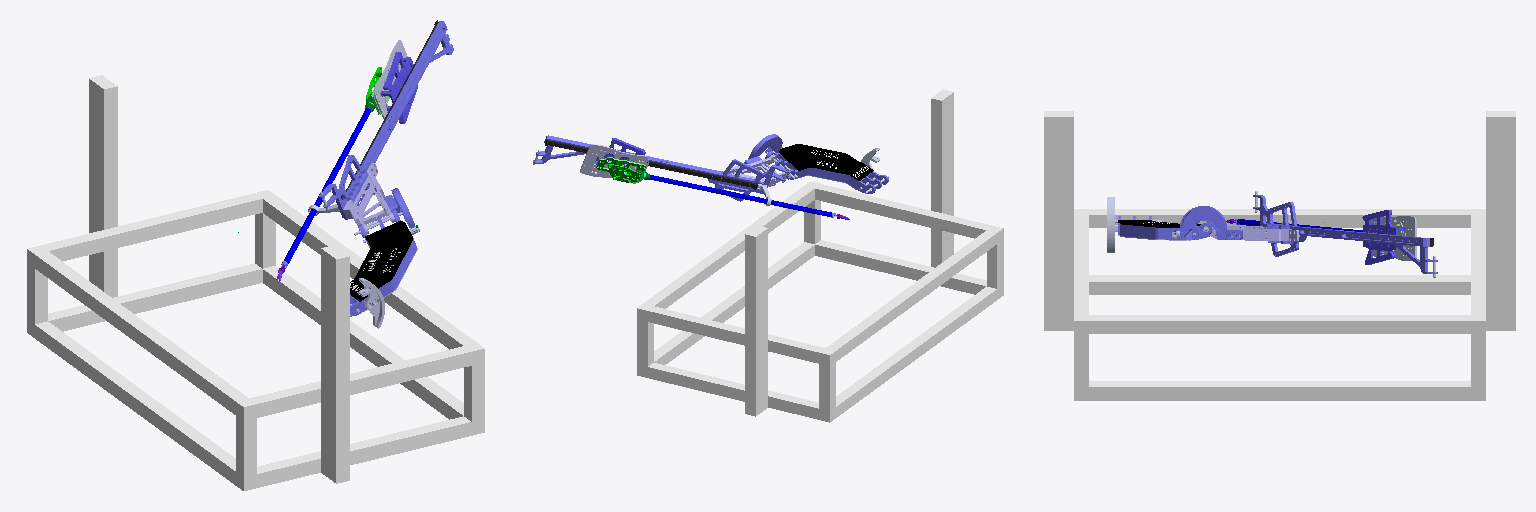
URDF robot description (raven_2):
<robot name="raven_2">

  <link name="world">
   <visual>
     <origin rpy="0 0 0" xyz="0 0 0" />
     <geometry>
       <box size=".001 .001 .001" />
     </geometry>
     <material name="Cyan">
       <color rgba="0 255 255 1.0" />
     </material>
   </visual>
  </link>

  <joint name="world_to_0_link" type="fixed">
    <limit effort="1000.0" lower="0.0" upper="3.1415" velocity="0.5" />
    <origin rpy="0 0 1.5707963267948966" xyz=".211 -.25071 .235" />
    <parent link="world" />
    <child link="0_link" />
  </joint>

  <link name="0_link">
   <visual>
     <origin rpy="0 0 0" xyz="0 0 0" />
     <geometry>
       <box size=".001 .001 .001" />
     </geometry>
     <material name="Cyan">
       <color rgba="0 255 255 1.0" />
     </material>
   </visual>
  </link>


  <joint name="base_mount_R" type="fixed">
    
    <limit effort="1000.0" lower="0.0" upper="3.1415" velocity="0.5" />
    <origin rpy="0 0 1.5707963267948966" xyz="-0.14858 0.002 0" /> 
    
    <parent link="0_link" />
    <child link="base_link_R" />
  </joint>

  <link name="base_link_R">
    <visual>
      <geometry>
        <mesh filename="package://raven_2_params/data/right_arm/base_w_motors.dae" />
      </geometry>
      
      <origin rpy="-0.00013898038469 -4.63289410187e-05 -1.57088897824" xyz="-9.26535896107e-05 -0.999999995708 2.14617192385e-09" />
    </visual>
  </link>

  <joint name="shoulder_R" type="revolute">
    <axis xyz="0 0 -1" />
    <limit effort="1000.0" lower="-3.1415" upper="3.1415" velocity="0.5" />
    <origin rpy="1.5707963267948966 -1.2032285493235686 0" xyz="0 0.0 0" /> 
    <parent link="base_link_R" />
    <child link="link1_R" />
  </joint>

  <link name="link1_R">
    <visual>
      <geometry>
        <mesh filename="package://raven_2_params/data/right_arm/link1_w_cover.dae" />
      </geometry>
      
      <origin rpy="2.03433275024 -1.57058914899 1.47468869829" xyz="1.98807290943e-05 0.000206221723053 0.999999978539" />
    </visual>
  </link>

  <joint name="elbow_R" type="revolute">
    <axis xyz="0 0 -1" />
    <limit effort="1000.0" lower="-3.1415" upper="3.1415" velocity="0.5" />
    <origin rpy="1.3088095959974027 0 0" xyz="0.0 0.0 0" />
    <parent link="link1_R" />
    <child link="link2_R" />
  </joint>

  <link name="link2_R">
    <visual>
      <geometry>
        <mesh filename="package://raven_2_params/data/right_arm/link2.dae" />
      </geometry>
      
      <origin rpy="1.93809147024 -0.261791409649 1.57082132184" xyz="-2.41434158662e-05 0.965927890854 0.258811338793" />
    </visual>
  </link>

  <joint name="insertion_R" type="prismatic">
    <axis xyz="0 0 -1" />
    <limit effort="1000.0" lower="-.17" upper=".1" velocity="0.5" />
    <origin rpy="0.90695995069604551 0 0" xyz="0 0 0" />
    <parent link="link2_R" />
    <child link="link3_R" />
  </joint>

  <link name="link3_R">
    <visual>
      <geometry>
        <mesh filename="package://raven_2_params/data/right_arm/link3.dae" />
      </geometry>
      
      <origin rpy="1.93907616539 0.645143731951 1.57130010476" xyz="-0.000402525303793 0.799013245873 -0.601313288472" />
    </visual>
  </link>

  <joint name="tool_roll_R" type="revolute">
    <axis xyz="0 0 1" />
    <limit effort="1000.0" lower="-3.1415" upper="3.1415" velocity="0.5" />
    
    <origin rpy="0 0 0" xyz="0 0 0" />
    <parent link="link3_R" />
    <child link="instrument_shaft_R" />
  </joint>

  <link name="instrument_shaft_R">
    <visual>
      <geometry>
        <mesh filename="package://raven_2_params/data/right_arm/instrument_shaft.dae" />
      </geometry>
      
      <origin rpy="1.93821764248 0.645076330724 -2.35620693036" xyz="-0.565023442192 -0.565009384393 -0.601259432626" />
    </visual>
  </link>

  <joint name="wrist_joint_R" type="revolute">
    <axis xyz="0 0 1" />
    <limit effort="1000.0" lower="-2" upper="2" velocity="0.5" />
      
    <origin rpy="1.5707963267948966 -1.5707963267948966 1.5707963267948966" xyz="0 0 0" />  
    <parent link="instrument_shaft_R" />
    <child link="wrist_R" />
  </joint>

  <link name="wrist_R">
    <visual>
      <geometry>
        <mesh filename="package://raven_2_params/data/right_arm/wrist.dae" />
      </geometry>
      
      <origin rpy="-2.23281531126 0.600461665504 2.38726655591" xyz="-0.601259432626 0.565009384393 -0.565023442192" />
    </visual>
  </link>

  <joint name="grasper_joint_1_R" type="revolute">
    <axis xyz="0 0 1" />
    <limit effort="1000.0" lower="-2" upper="2" velocity=".5" />
    <origin rpy="-1.5707963267948966 0 0" xyz="0.012 0 0" />
    <parent link="wrist_R" />
    <child link="grasper1_R" />
  </joint>

  <link name="grasper1_R">
    <visual>
      <geometry>
        <mesh filename="package://raven_2_params/data/right_arm/grasper_1.dae" />
      </geometry>
    
      
      <origin rpy="0.173805770199 0.600177649595 -2.03759014443" xyz="-0.382928137328 -0.738961284047 -0.567341597897" />
    </visual>
  </link>

  <joint name="grasper_joint_2_R" type="revolute">
    <axis xyz="0 0 1" />
    <limit effort="1000.0" lower="-2" upper="2" velocity=".5" />
    <origin rpy="1.5707963267948966 0 0" xyz="0.012 0 0" />
    <parent link="wrist_R" />
    <child link="grasper2_R" />
  </joint>

  <link name="grasper2_R">
    <visual>
      <geometry>
        <mesh filename="package://raven_2_params/data/right_arm/grasper_2.dae" />
      </geometry>
      
      <origin rpy="2.9678042168 -0.600183874305 2.38726263225" xyz="-0.613371572865 0.565118262334 0.564792784622" />
    </visual>
  </link>

  <joint name="grasper_yaw_R" type="revolute">
    <axis xyz="0 0 1" />
    <limit effort="1000.0" lower="-2" upper="2" velocity=".5" />
    <origin rpy="-1.5707963267948966 0 0" xyz="0.012 0 0" />
    <parent link="wrist_R" />
    <child link="tool_base_R" />
  </joint>

  <link name="tool_base_R">
  </link>

  <joint name="tool_base_to_tool_R" type="fixed">
    
    <limit effort="1000.0" lower="0.0" upper="3.1415" velocity="0.5" />
    <origin rpy="0 0 0" xyz="0.01 0 0" />
    <parent link="tool_base_R" />
    <child link="tool_R" />
  </joint>

  <link name="tool_R">
  </link>

  <joint name="tool_base_to_tool_tip_R" type="fixed">
    
    <limit effort="1000.0" lower="0.0" upper="3.1415" velocity="0.5" />
    <origin rpy="0 0 0" xyz="0.02 0 0" />
    <parent link="tool_base_R" />
    <child link="tool_tip_R" />
  </joint>

  <link name="tool_tip_R">
  </link>

  <joint name="grasper1_tip_R" type="fixed">
    
    <limit effort="1000.0" lower="0.0" upper="3.1415" velocity="0.5" />
    <origin rpy="0 0 0" xyz="0.02 0 0" />
    <parent link="grasper1_R" />
    <child link="grasper1_tip_R" />
  </joint>

  <link name="grasper1_tip_R">
  </link>

  <joint name="grasper2_tip_R" type="fixed">
    
    <limit effort="1000.0" lower="0.0" upper="3.1415" velocity="0.5" />
    <origin rpy="0 0 0" xyz="0.02 0 0" />
    <parent link="grasper2_R" />
    <child link="grasper2_tip_R" />
  </joint>

  <link name="grasper2_tip_R">
  </link>



  <material name="8020_frame">
    <color rgba="127 127 127 0.5" />
  </material>

  <link name="frame_bottom_F">
   <visual>
     <origin rpy="0 0 0" xyz="0 0 0" />
     <geometry>
       <box size="0.7 0.025 0.025" />
     </geometry>
     <material name="8020_frame">
       <color rgba="127 127 127 0.5" />
     </material>
   </visual>
  </link>
  <joint name="frame_pose_bottom_F" type="fixed">
    <origin rpy="0 0 -1.5707963267948966" xyz="-0.0125 -0.325 0.0125" />
    <parent link="world" />
    <child link="frame_bottom_F" />
  </joint>

  <link name="frame_bottom_L">
   <visual>
     <origin rpy="0 0 0" xyz="0 0 0" />
     <geometry>
       <box size="0.40 0.025 0.025" />
     </geometry>
     <material name="8020_frame">
       <color rgba="127 127 127 0.5" />
     </material>
   </visual>
  </link>
  <joint name="frame_pose_bottom_L" type="fixed">
    <origin rpy="0 0 0" xyz="0.20 0.0125 0.0125" />
    <parent link="world" />
    <child link="frame_bottom_L" />
  </joint>

  <link name="frame_bottom_R">
   <visual>
     <origin rpy="0 0 0" xyz="0 0 0" />
     <geometry>
       <box size="0.40 0.025 0.025" />
     </geometry>
     <material name="8020_frame">
       <color rgba="127 127 127 0.5" />
     </material>
   </visual>
  </link>
  <joint name="frame_pose_bottom_R" type="fixed">
    <origin rpy="0 0 0" xyz="0.20 -0.6625 0.0125" />
    <parent link="world" />
    <child link="frame_bottom_R" />
  </joint>

  <link name="frame_bottom_B">
   <visual>
     <origin rpy="0 0 0" xyz="0 0 0" />
     <geometry>
       <box size="0.70 0.025 0.025" />
     </geometry>
     <material name="8020_frame">
       <color rgba="127 127 127 0.5" />
     </material>
   </visual>
  </link>
  <joint name="frame_pose_bottom_B" type="fixed">
    <origin rpy="0 0 -1.5707963267948966" xyz="0.4125 -0.325 0.0125" />
    <parent link="world" />
    <child link="frame_bottom_B" />
  </joint>

  <link name="frame_vertical_LF">
   <visual>
     <origin rpy="0 0 0" xyz="0 0 0" />
     <geometry>
       <box size="0.10 0.025 0.025" />
     </geometry>
     <material name="8020_frame">
       <color rgba="127 127 127 0.5" />
     </material>
   </visual>
  </link>
  <joint name="frame_pose_vertical_LF" type="fixed">
    <origin rpy="0 -1.5707963267948966 0" xyz="-0.0125 0.0125 0.075" />
    <parent link="world" />
    <child link="frame_vertical_LF" />
  </joint>

  <link name="frame_vertical_RF">
   <visual>
     <origin rpy="0 0 0" xyz="0 0 0" />
     <geometry>
       <box size="0.10 0.025 0.025" />
     </geometry>
     <material name="8020_frame">
       <color rgba="127 127 127 0.5" />
     </material>
   </visual>
  </link>
  <joint name="frame_pose_vertical_RF" type="fixed">
    <origin rpy="0 -1.5707963267948966 0" xyz="-0.0125 -0.6625 0.075" />
    <parent link="world" />
    <child link="frame_vertical_RF" />
  </joint>

  <link name="frame_vertical_LB">
   <visual>
     <origin rpy="0 0 0" xyz="0 0 0" />
     <geometry>
       <box size="0.10 0.025 0.025" />
     </geometry>
     <material name="8020_frame">
       <color rgba="127 127 127 0.5" />
     </material>
   </visual>
  </link>
  <joint name="frame_pose_vertical_LB" type="fixed">
    <origin rpy="0 -1.5707963267948966 0" xyz="0.4125 0.0125 0.075" />
    <parent link="world" />
    <child link="frame_vertical_LB" />
  </joint>

  <link name="frame_vertical_RB">
   <visual>
     <origin rpy="0 0 0" xyz="0 0 0" />
     <geometry>
       <box size="0.10 0.025 0.025" />
     </geometry>
     <material name="8020_frame">
       <color rgba="127 127 127 0.5" />
     </material>
   </visual>
  </link>
  <joint name="frame_pose_vertical_RB" type="fixed">
    <origin rpy="0 -1.5707963267948966 0" xyz="0.4125 -0.6625 0.075" />
    <parent link="world" />
    <child link="frame_vertical_RB" />
  </joint>

  <link name="frame_top_F">
   <visual>
     <origin rpy="0 0 0" xyz="0 0 0" />
     <geometry>
       <box size="0.7 0.025 0.025" />
     </geometry>
     <material name="8020_frame">
       <color rgba="127 127 127 0.5" />
     </material>
   </visual>
  </link>
  <joint name="frame_pose_top_F" type="fixed">
    <origin rpy="0 0 -1.5707963267948966" xyz="-0.0125 -0.325 0.1375" />
    <parent link="world" />
    <child link="frame_top_F" />
  </joint>

  <link name="frame_top_L">
   <visual>
     <origin rpy="0 0 0" xyz="0 0 0" />
     <geometry>
       <box size="0.40 0.025 0.025" />
     </geometry>
     <material name="8020_frame">
       <color rgba="127 127 127 0.5" />
     </material>
   </visual>
  </link>
  <joint name="frame_pose_top_L" type="fixed">
    <origin rpy="0 0 0" xyz="0.20 0.0125 0.1375" />
    <parent link="world" />
    <child link="frame_top_L" />
  </joint>

  <link name="frame_top_R">
   <visual>
     <origin rpy="0 0 0" xyz="0 0 0" />
     <geometry>
       <box size="0.40 0.025 0.025" />
     </geometry>
     <material name="8020_frame">
       <color rgba="127 127 127 0.5" />
     </material>
   </visual>
  </link>
  <joint name="frame_pose_top_R" type="fixed">
    <origin rpy="0 0 0" xyz="0.20 -0.6625 0.1375" />
    <parent link="world" />
    <child link="frame_top_R" />
  </joint>

  <link name="frame_top_B">
   <visual>
     <origin rpy="0 0 0" xyz="0 0 0" />
     <geometry>
       <box size="0.70 0.025 0.025" />
     </geometry>
     <material name="8020_frame">
       <color rgba="127 127 127 0.5" />
     </material>
   </visual>
  </link>
  <joint name="frame_pose_top_B" type="fixed">
    <origin rpy="0 0 -1.5707963267948966" xyz="0.4125 -0.325 0.1375" />
    <parent link="world" />
    <child link="frame_top_B" />
  </joint>

  <link name="frame_base_support_L">
   <visual>
     <origin rpy="0 0 0" xyz="0 0 0" />
     <geometry>
       <box size="0.4 0.05 0.025" />
     </geometry>
     <material name="8020_frame">
       <color rgba="127 127 127 0.5" />
     </material>
   </visual>
  </link>
  <joint name="frame_pose_base_support_L" type="fixed">
    <origin rpy="0 -1.5707963267948966 0" xyz="0.1315 0.05 0.2" />
    <parent link="world" />
    <child link="frame_base_support_L" />
  </joint>

  <link name="frame_base_support_R">
   <visual>
     <origin rpy="0 0 0" xyz="0 0 0" />
     <geometry>
       <box size="0.4 0.05 0.025" />
     </geometry>
     <material name="8020_frame">
       <color rgba="127 127 127 0.5" />
     </material>
   </visual>
  </link>
  <joint name="frame_pose_base_support_R" type="fixed">
    <origin rpy="0 -1.5707963267948966 0" xyz="0.1315 -0.7 0.2" />
    <parent link="world" />
    <child link="frame_base_support_R" />
  </joint>

  </robot>

--- Facts derived from the render (not from the file) ---
Views: 3 orthographic renders of the robot side by side, from view 1: azimuth 30°, elevation 25°; view 2: azimuth 150°, elevation 25°; view 3: azimuth 270°, elevation 25°.
Model raven_2 with 29 links and 28 joints (7 revolute, 1 prismatic, 20 fixed), rooted at world, posed all joints at 0.
Links seen in each view (by area): view 1: frame_base_support_R, frame_top_F, frame_bottom_F, link2_R, frame_base_support_L, frame_top_L, link1_R, frame_top_B, frame_bottom_B, frame_top_R, frame_bottom_R, frame_bottom_L (+6 smaller); view 2: frame_base_support_L, frame_top_F, link2_R, frame_bottom_F, frame_base_support_R, link1_R, frame_top_B, frame_top_R, frame_bottom_B, frame_top_L, frame_bottom_L, frame_bottom_R (+6 smaller); view 3: frame_bottom_B, frame_top_B, frame_bottom_F, frame_base_support_L, frame_base_support_R, link2_R, frame_top_F, link1_R, link3_R, frame_top_L, frame_top_R, frame_vertical_LB (+1 smaller).
Link boxes in pixels (x1,y1,x2,y2): frame_base_support_R: (321,245,349,483); frame_top_F: (27,246,256,420); frame_bottom_F: (27,319,256,490); link2_R: (308,20,453,233); frame_base_support_L: (89,75,117,297); frame_top_L: (40,193,262,261); link1_R: (350,209,419,328); frame_top_B: (255,190,484,365); frame_bottom_B: (263,266,484,435); frame_top_R: (250,346,471,417); frame_bottom_R: (257,416,471,487); frame_bottom_L: (48,263,262,331); frame_base_support_L: (745,225,767,416); frame_top_F: (819,226,1003,365); link2_R: (533,134,789,205); frame_bottom_F: (819,285,1003,422); frame_base_support_R: (931,89,953,267); link1_R: (765,144,888,193); frame_top_B: (637,181,819,321); frame_top_R: (815,184,991,238); frame_bottom_B: (637,242,814,377); frame_top_L: (648,306,824,363); frame_bottom_L: (648,363,818,419); frame_bottom_R: (815,240,986,294); frame_bottom_B: (1074,381,1485,400); frame_top_B: (1074,315,1485,333); frame_bottom_F: (1089,275,1470,294); frame_base_support_L: (1486,111,1515,330); frame_base_support_R: (1044,111,1073,330); link2_R: (1180,191,1437,277); frame_top_F: (1074,209,1485,227); link1_R: (1107,197,1212,252); link3_R: (1362,210,1416,264); frame_top_L: (1471,215,1485,314); frame_top_R: (1074,215,1088,314); frame_vertical_LB: (1471,334,1485,386).
Size in the robot's own frame: 0.7431 by 0.8 by 0.4299 metres.
7 mesh visuals loaded from 8 distinct referenced files (7 Collada DAE); not drawn: 1 (reference not matched to a file when rendering).